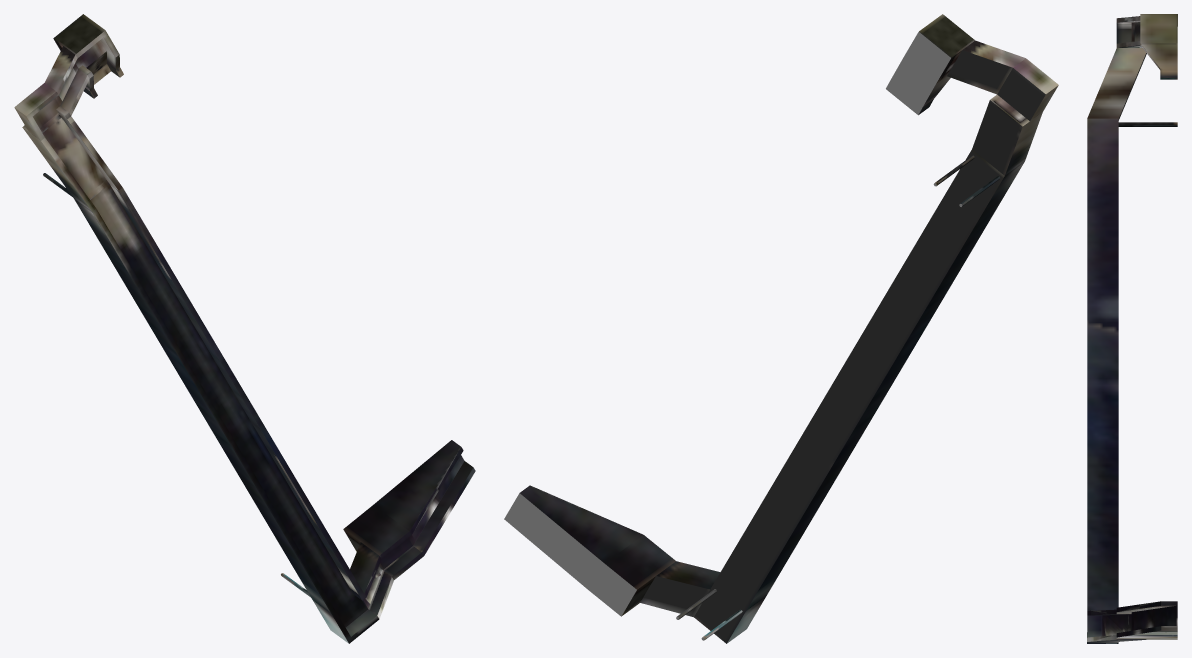
The model's file is 53394507_brid_6677.obj.
3 renders of one model, left to right at view 1: azimuth 30°, elevation 25°; view 2: azimuth 150°, elevation 25°; view 3: azimuth 270°, elevation 25°, orthographic. The views are drawn at different scales.
Bounding box in the file's own units: 30.82 × 39.77 × 6.02.
1 material, 1 textured.
